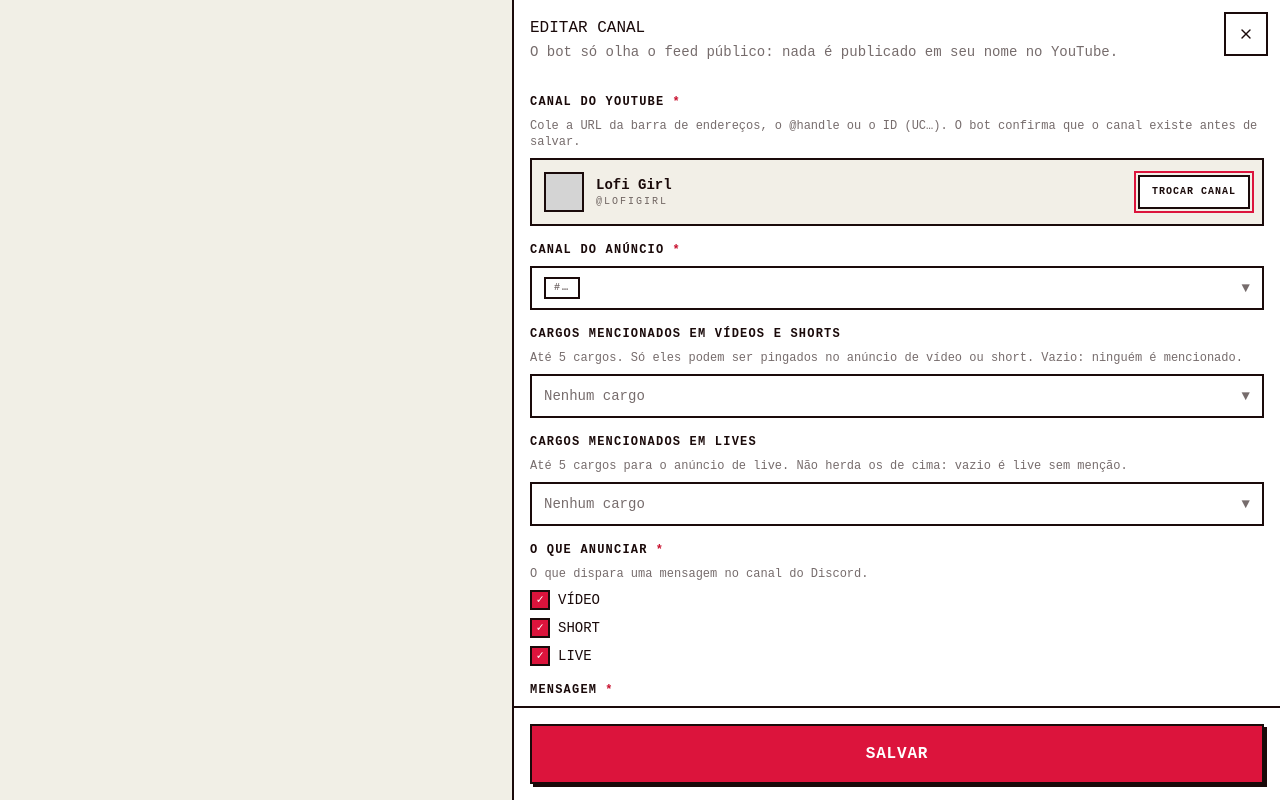
it: AccountSheet — campo do canal › na edição o cartão já vem pronto e a busca só volta com TROCAR CANAL
This screenshot has width=1280, height=800.
expect the text "Lofi Girl" is shown: met, box [596,175,672,195]
expect the field with placeholder "youtube.com/@canal" is not shown: met
Click the button "TROCAR CANAL": point(1194, 192) [1138,175,1250,209]
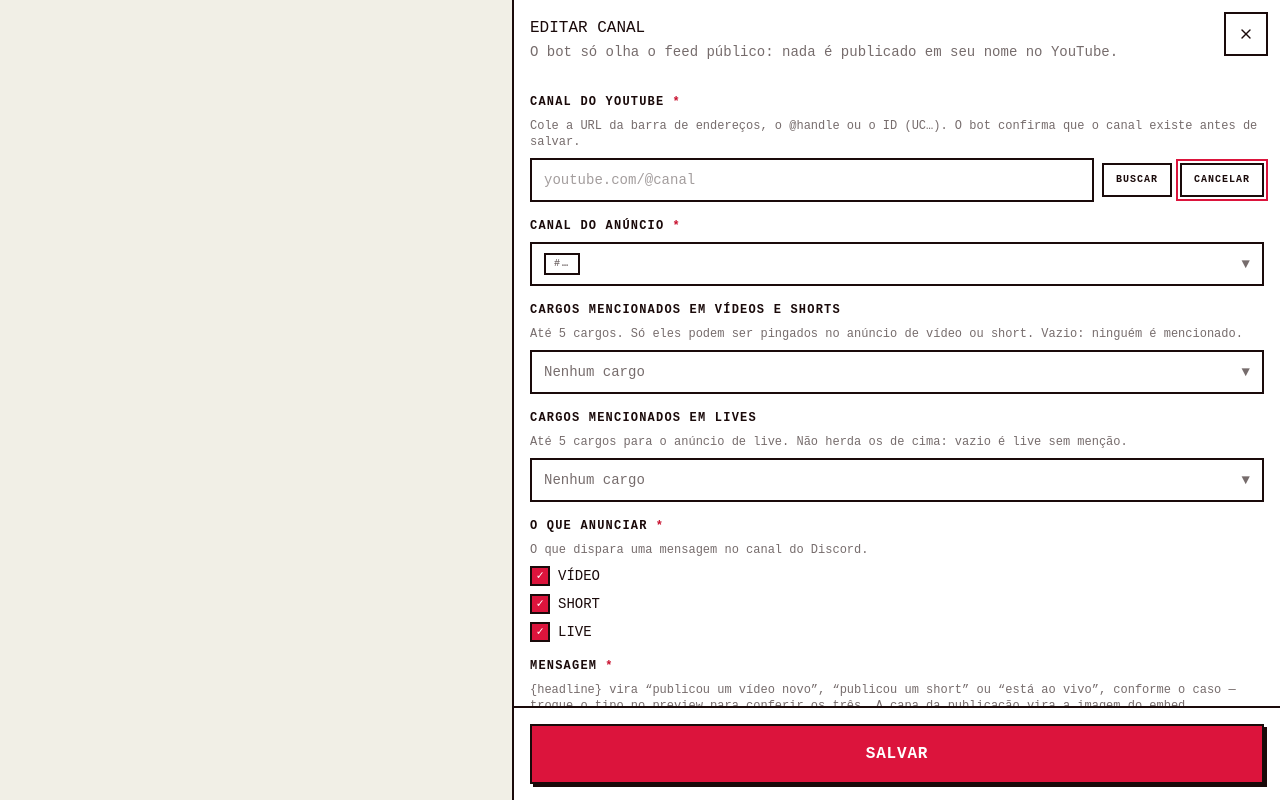
expect the field with placeholder "youtube.com/@canal" is shown: met, box [530,158,1094,202]
Click the button "CANCELAR": point(1222, 180) [1180,163,1264,197]
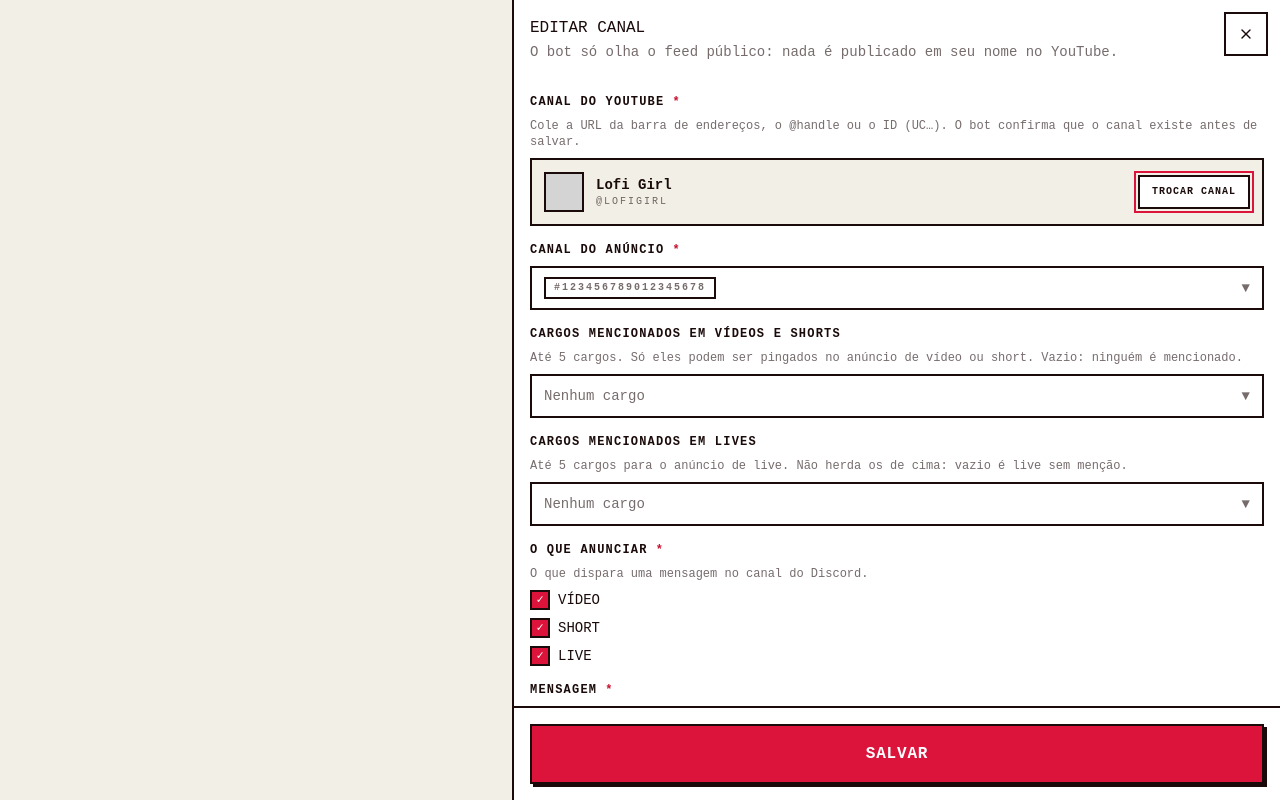
expect the text "Lofi Girl" is shown: met, box [596,175,672,195]
